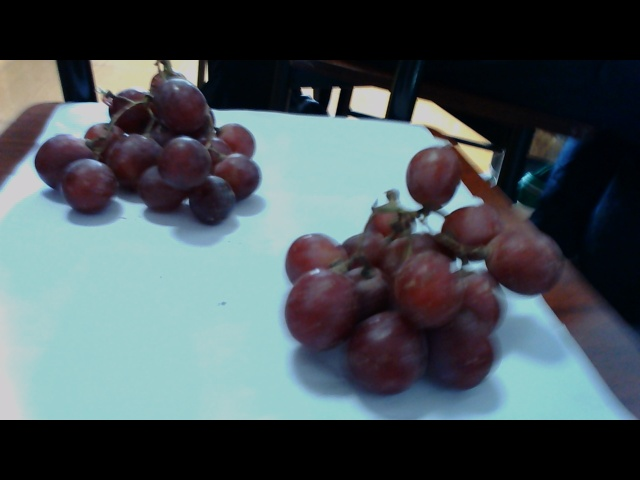grape: (268, 146, 555, 394), (35, 68, 249, 224)
